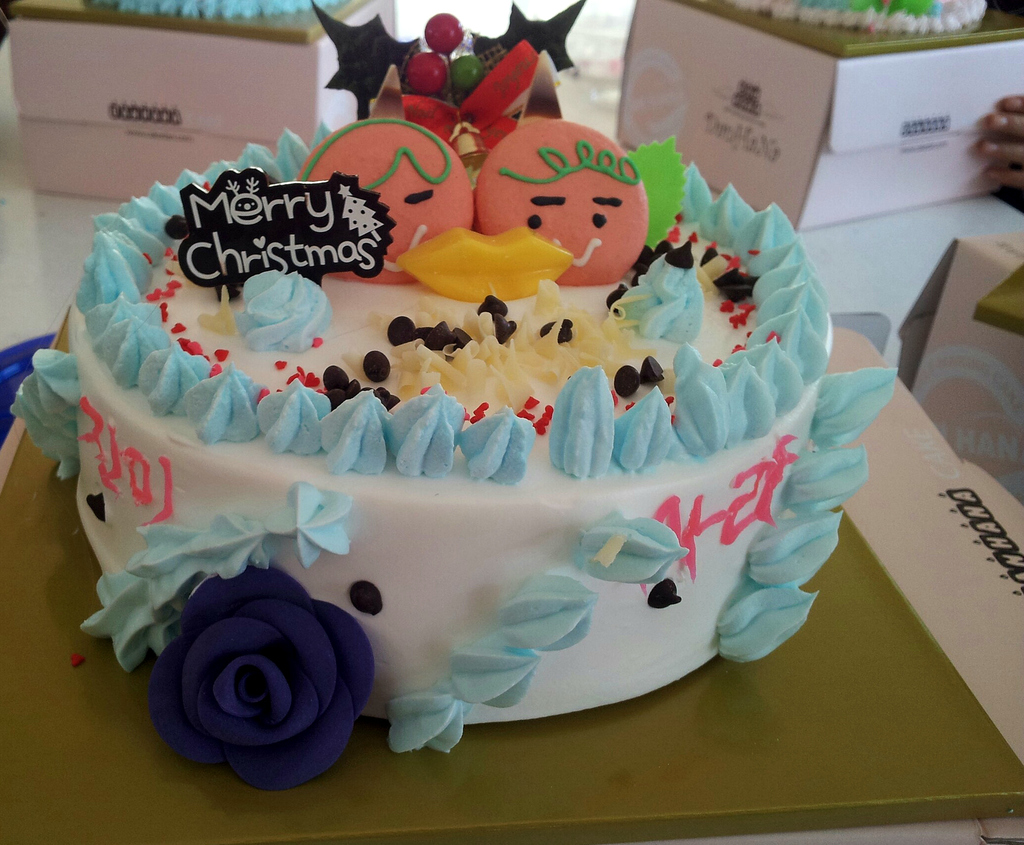cake: (10, 0, 897, 791)
